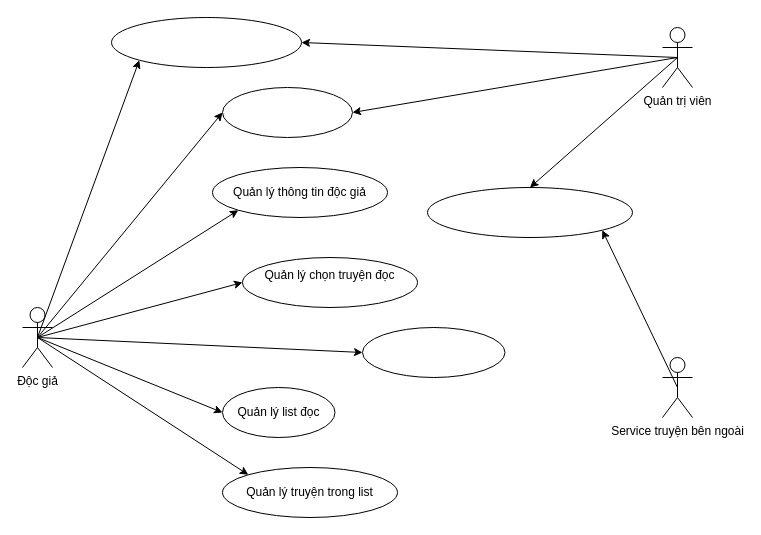
Image size: 761x535. Some labels were removed from this diagram. Each missing label, with the centre of its shape:
Quản lý comment: point (287, 112)
Quản lý hoạt động độc giả: point (206, 42)
Quản lý truyện trên hệ thống: point (529, 212)
Quản lý đọc truyện: point (433, 352)
